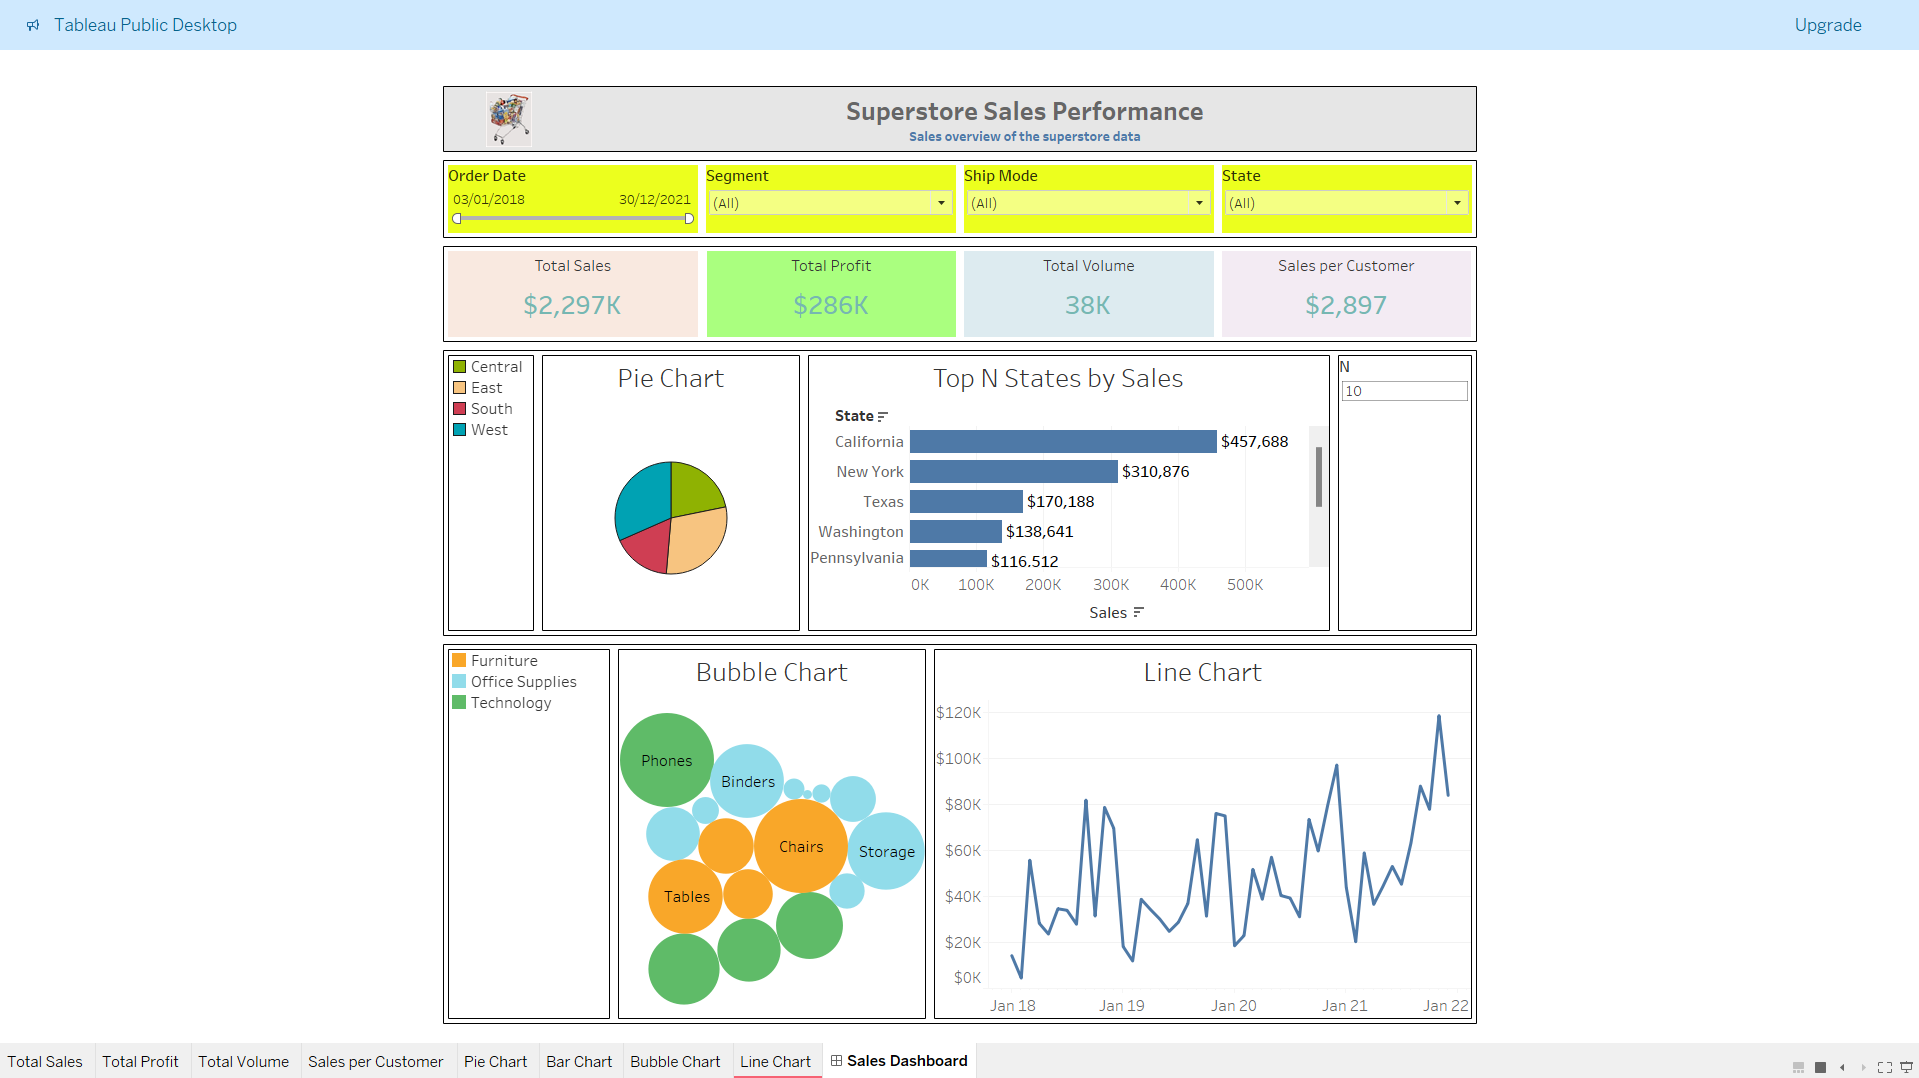

What the dashboard file says about the page in this screenshot:
{"tool":"tableau","page":{"name":"Sales Dashboard","canvas":[1055,850],"ordinal":0},"visuals":[{"type":"image","param":"Image/cart.jpg","box":[12,14.8,130,59]},{"type":"text","box":[142,14.8,902,59]},{"type":"filter","title":"Total Sales","param":"[federated.0r0mmrk0bmu0nh1e8jor21cc0so0].[none:Order Date:qk]","box":[12,84,258,76]},{"type":"filter","title":"Total Sales","param":"[federated.0r0mmrk0bmu0nh1e8jor21cc0so0].[none:Segment:nk]","box":[270,84,258,76]},{"type":"filter","title":"Total Sales","param":"[federated.0r0mmrk0bmu0nh1e8jor21cc0so0].[none:Ship Mode:nk]","box":[528,84,258,76]},{"type":"filter","title":"Total Sales","param":"[federated.0r0mmrk0bmu0nh1e8jor21cc0so0].[none:State:nk]","box":[786,84,258,76]},{"type":"worksheet","title":"Total Sales","mark":"Automatic","box":[12,169.8,258.5,81]},{"type":"worksheet","title":"Total Profit","mark":"Automatic","box":[270.5,169.8,257.5,81]},{"type":"worksheet","title":"Total Volume","mark":"Automatic","box":[528,169.8,258.5,81]},{"type":"worksheet","title":"Sales per Customer","mark":"Automatic","box":[786.5,169.8,257.5,81]},{"type":"legend","title":"Pie Chart","param":"[federated.0r0mmrk0bmu0nh1e8jor21cc0so0].[none:Region:nk]","box":[12,260.8,94,236]},{"type":"worksheet","title":"Pie Chart","mark":"Pie","box":[106,260.8,266,236]},{"type":"worksheet","title":"Bar Chart","mark":"Automatic","rows":["State"],"cols":["Sales"],"box":[372,260.8,530,236]},{"type":"parameter","param":"[Parameters].[Sales Parameter]","box":[902,260.8,142,236]},{"type":"legend","title":"Bubble Chart","param":"[federated.0r0mmrk0bmu0nh1e8jor21cc0so0].[none:Category:nk]","box":[12,506.8,170,340]},{"type":"worksheet","title":"Bubble Chart","mark":"Circle","box":[182,506.8,316,340]},{"type":"worksheet","title":"Line Chart","mark":"Automatic","rows":["Sales"],"cols":["Order Date"],"box":[498,506.8,546,340]}]}

Visuals, with their boxes on the page's 1055x850 design canvas (x1, y1, x2, y2). These are canvas units, not pixel positions in the 1919x1078 screenshot, which may show the page scaled, cropped or inside an application window:
image: (left=12, top=15, right=142, bottom=74)
text: (left=142, top=15, right=1044, bottom=74)
"Total Sales" filter: (left=12, top=84, right=270, bottom=160)
"Total Sales" filter: (left=270, top=84, right=528, bottom=160)
"Total Sales" filter: (left=528, top=84, right=786, bottom=160)
"Total Sales" filter: (left=786, top=84, right=1044, bottom=160)
"Total Sales" worksheet: (left=12, top=170, right=270, bottom=251)
"Total Profit" worksheet: (left=270, top=170, right=528, bottom=251)
"Total Volume" worksheet: (left=528, top=170, right=786, bottom=251)
"Sales per Customer" worksheet: (left=786, top=170, right=1044, bottom=251)
"Pie Chart" legend: (left=12, top=261, right=106, bottom=497)
"Pie Chart" worksheet (Pie marks): (left=106, top=261, right=372, bottom=497)
"Bar Chart" worksheet: (left=372, top=261, right=902, bottom=497)
parameter: (left=902, top=261, right=1044, bottom=497)
"Bubble Chart" legend: (left=12, top=507, right=182, bottom=847)
"Bubble Chart" worksheet (Circle marks): (left=182, top=507, right=498, bottom=847)
"Line Chart" worksheet: (left=498, top=507, right=1044, bottom=847)
